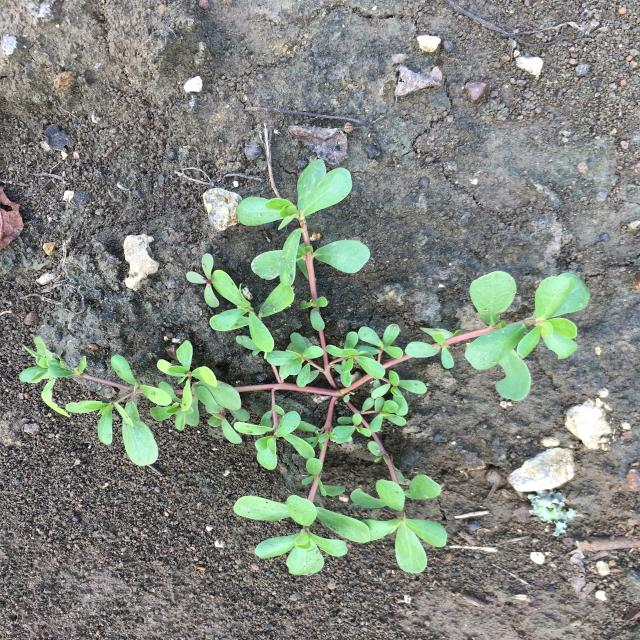Purslane: (19, 159, 590, 576)
